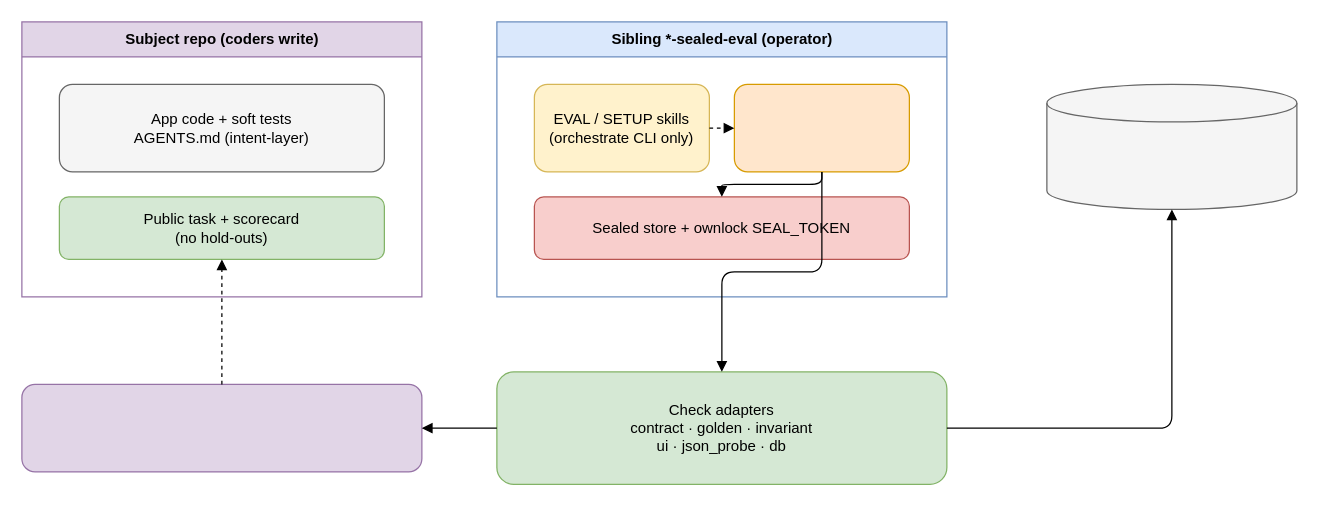
Some shapes in this 1319 by 506 pixel diagram are drawn without their labels. The shapes that lost their labels are listed below. From the top down, each one's centre as x and y in pixels, then its label:
At point 821,127: "Harness propose → seal → grade".
At point 1171,146: "Running artifact (Vite preview / API URL)".
At point 221,427: "Coder-safe scorecard buckets · rates · gap · gate".
